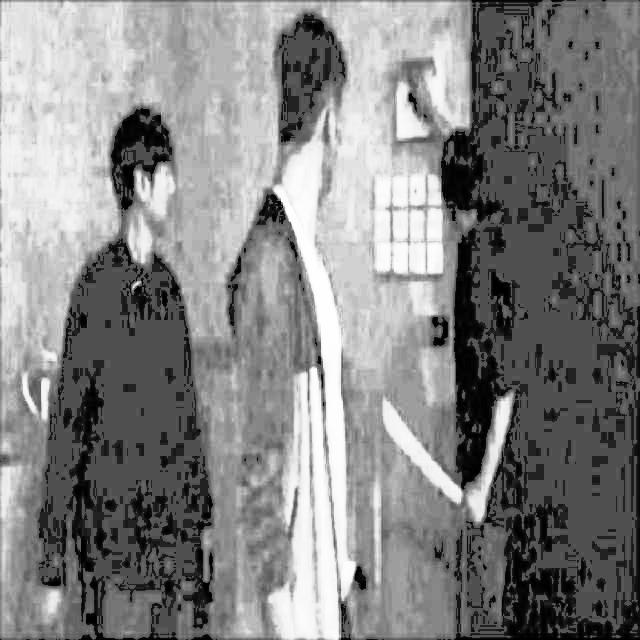Person: (37, 92, 219, 640), (224, 1, 358, 640), (398, 58, 520, 640)
